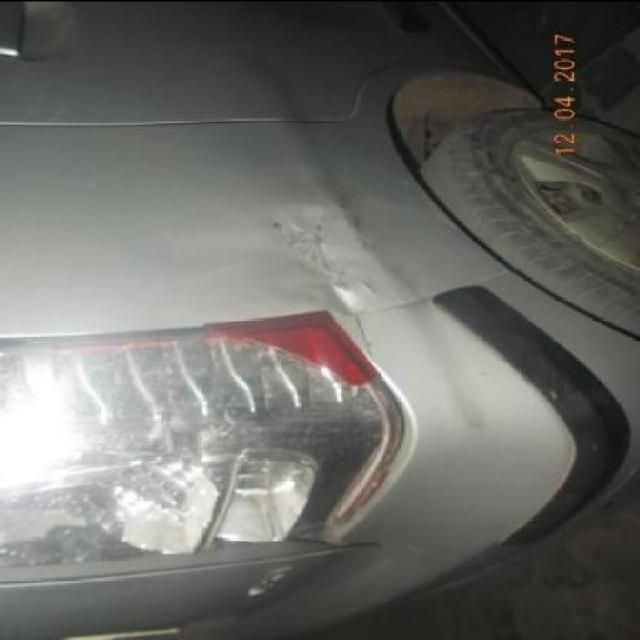damage: (3, 310, 406, 568), (269, 151, 427, 358)
